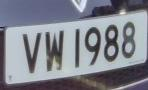1: (70, 23, 85, 75)
8: (119, 17, 139, 66), (102, 18, 121, 69)
9: (82, 21, 104, 72)
V: (20, 27, 44, 78)
W: (44, 26, 67, 78)
